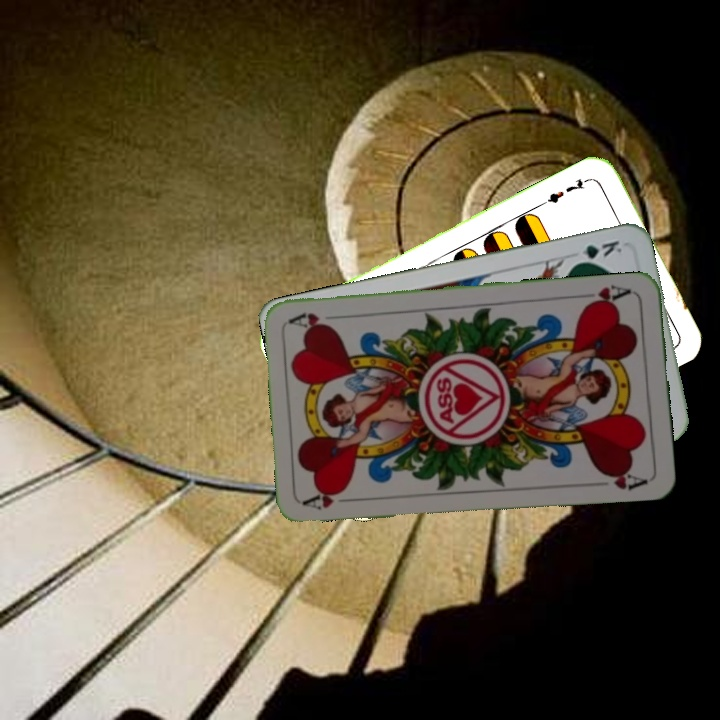E7: (539, 174, 594, 208)
GK: (569, 236, 625, 267)
HA: (580, 281, 636, 310), (301, 486, 360, 513)
